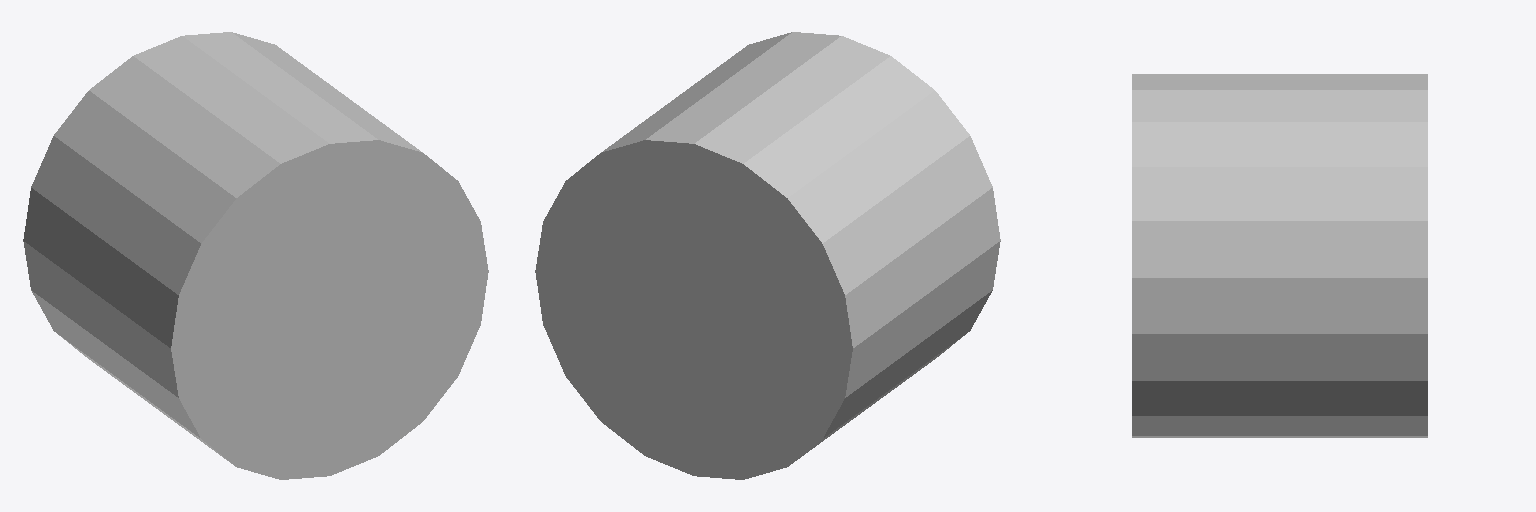
The model's file is Resaltado_Nervio_occipital_menor_D_2.obj.
The picture shows the model from 3 angles: view 1: azimuth 30°, elevation 25°; view 2: azimuth 150°, elevation 25°; view 3: azimuth 270°, elevation 25°; orthographic projection.
Visible parts, largest first — view 1: polySurface44 polySurface21 Marcadores1; view 2: polySurface44 polySurface21 Marcadores1; view 3: polySurface44 polySurface21 Marcadores1.
Part boxes in pixels (bbox=[...]): polySurface44 polySurface21 Marcadores1: bbox=[23, 32, 488, 479]; polySurface44 polySurface21 Marcadores1: bbox=[535, 32, 1000, 479]; polySurface44 polySurface21 Marcadores1: bbox=[1132, 74, 1427, 437].
Size of the model in its own units: 0.0375 by 0.0375 by 0.0302.